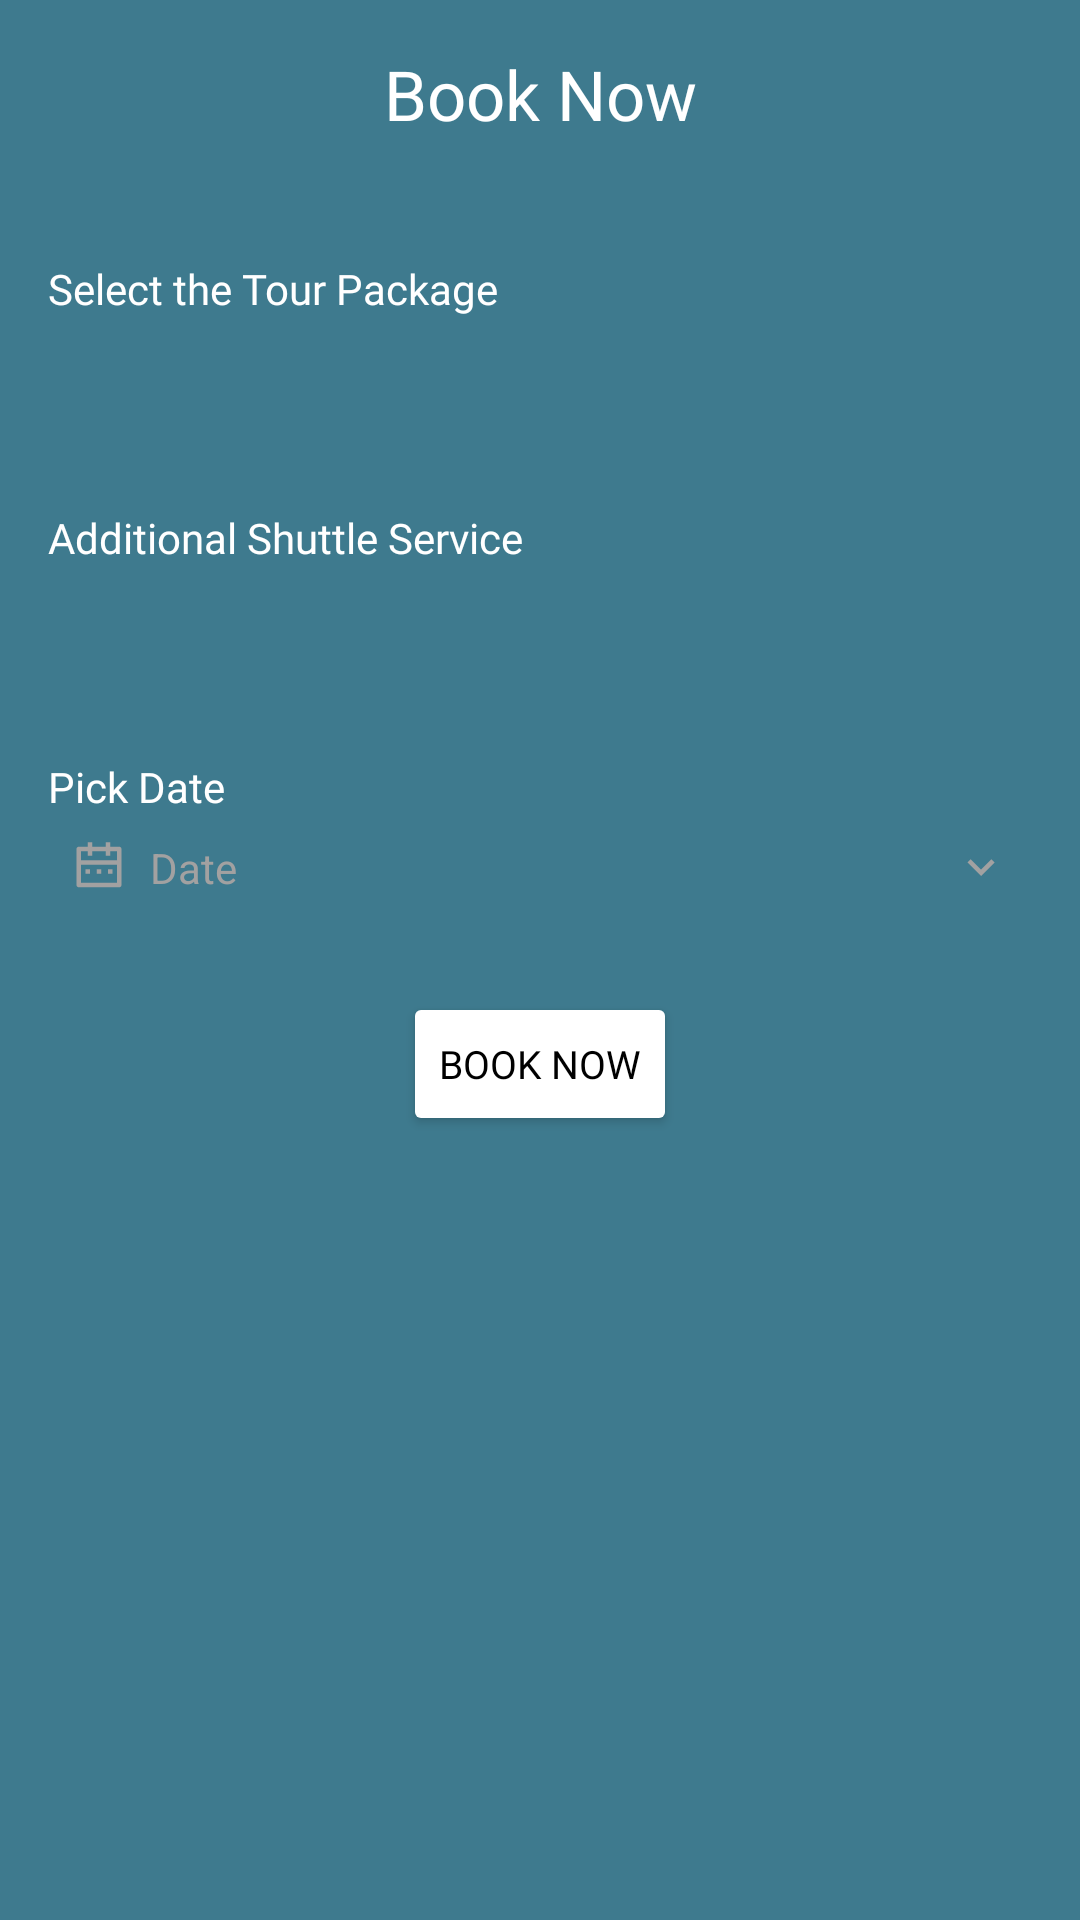

Icons on this 1080x1920 Android screen, each with the point to tap as point (x, y):
keyboard arrow down: point (981, 867)
